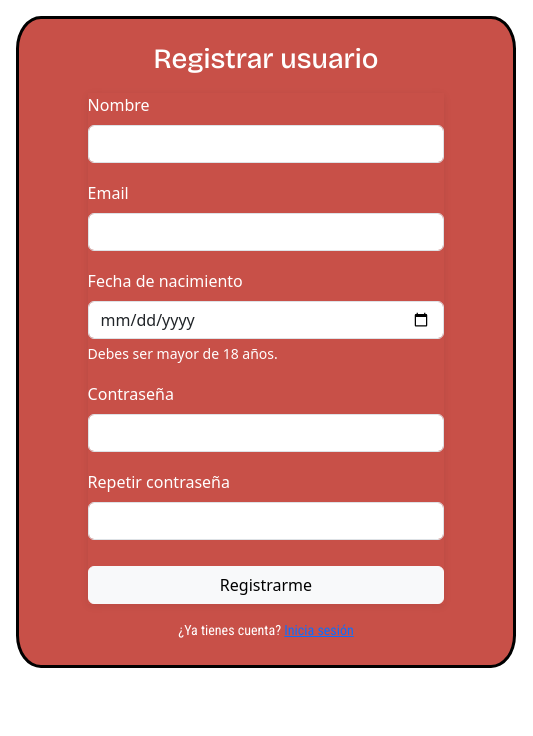
Test: Registro Page › muestra errores cuando se envía vacío
This screenshot has width=533, height=736.
What coordinates should you click on to do the following:
click the button "Registrarme"
I would click on:
 (266, 585)
Its box is [88,566,444,604].
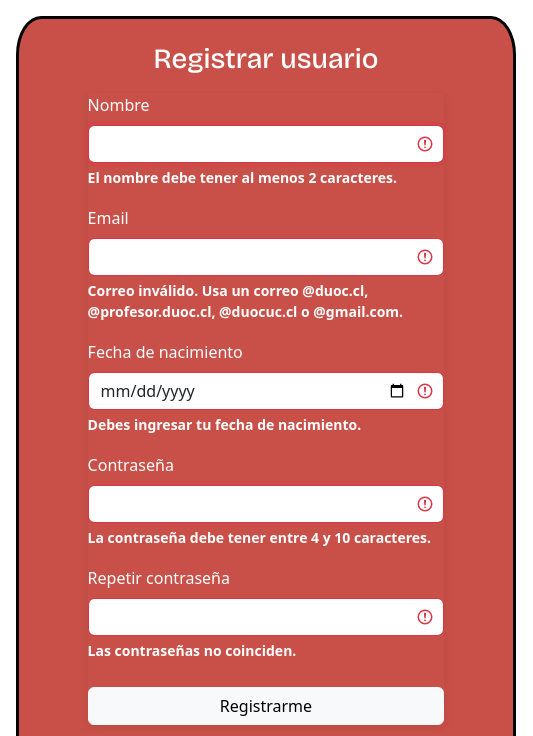
Now the text "El nombre debe tener al menos 2 caracteres." is shown, box [88,167,444,188]
Now the text "Correo inválido" is shown, box [88,281,403,321]
Now the text "Debes ingresar tu fecha de nacimiento." is shown, box [88,415,361,434]
